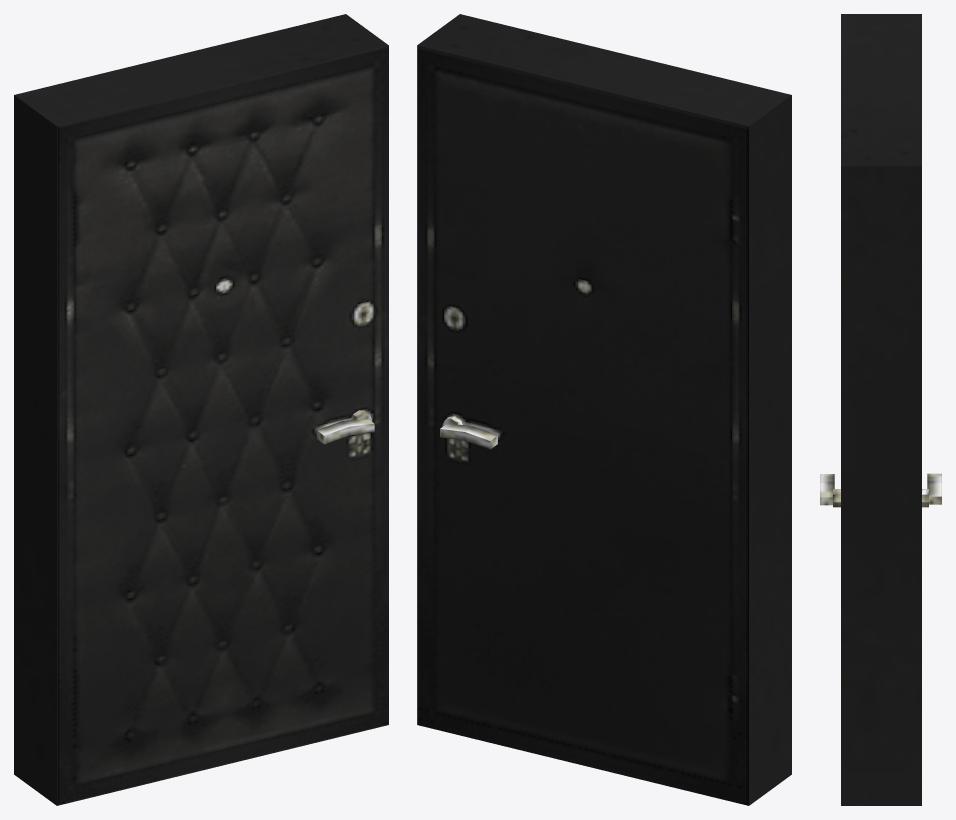
File: Дверь_входная (3).fbx
3 renders of one model, left to right at view 1: azimuth 30°, elevation 25°; view 2: azimuth 150°, elevation 25°; view 3: azimuth 270°, elevation 25°, orthographic. The views are drawn at different scales.
Parts seen in each view (by area): view 1: ВхДверь; view 2: ВхДверь; view 3: ВхДверь.
Boxes of the visible parts, x1,y1,x2,y2 form: ВхДверь: (14, 14, 388, 805); ВхДверь: (417, 14, 791, 805); ВхДверь: (820, 14, 941, 805).
Bounding box in the file's own units: 200 × 391 × 67.59.
